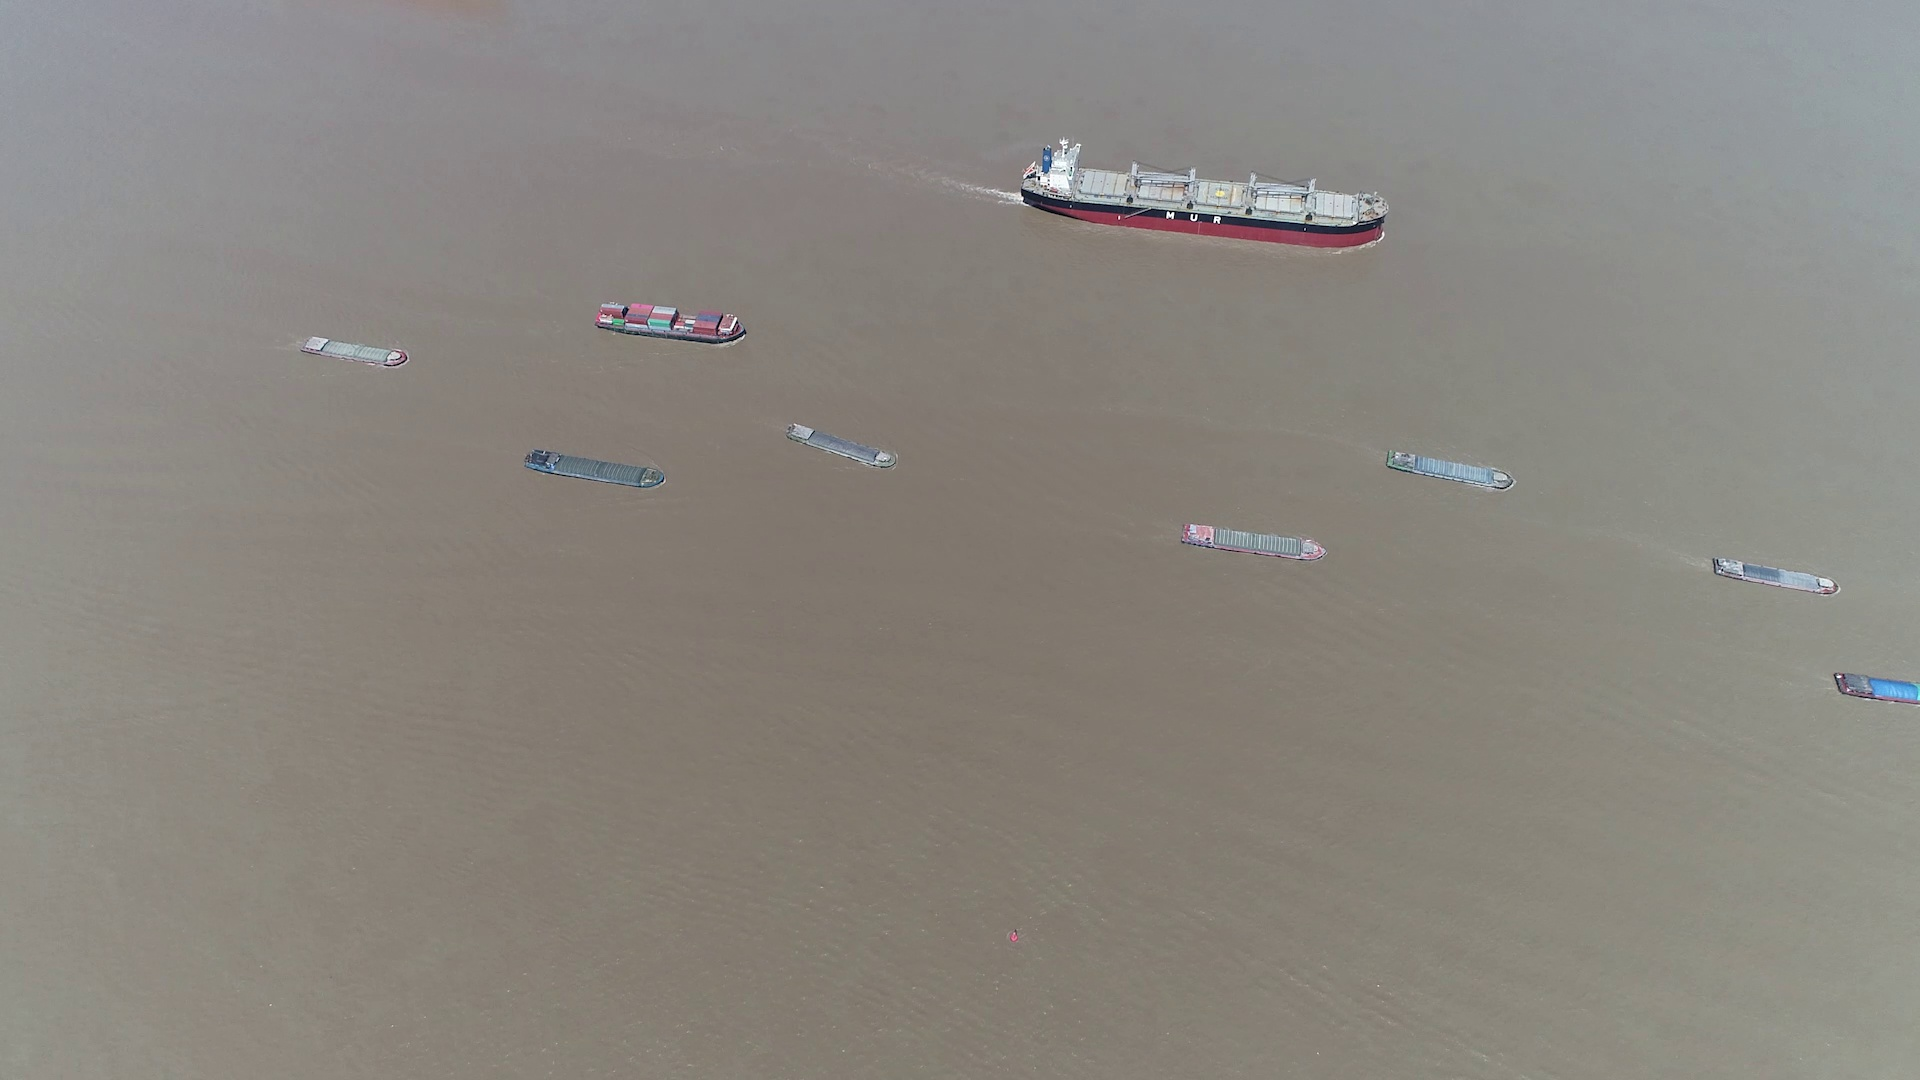ship: (1022, 144, 1389, 247), (593, 301, 750, 344), (526, 448, 665, 491), (1386, 448, 1515, 491), (1183, 524, 1324, 562), (785, 425, 898, 471), (1712, 554, 1840, 595), (301, 335, 409, 369), (1836, 673, 1917, 708)
